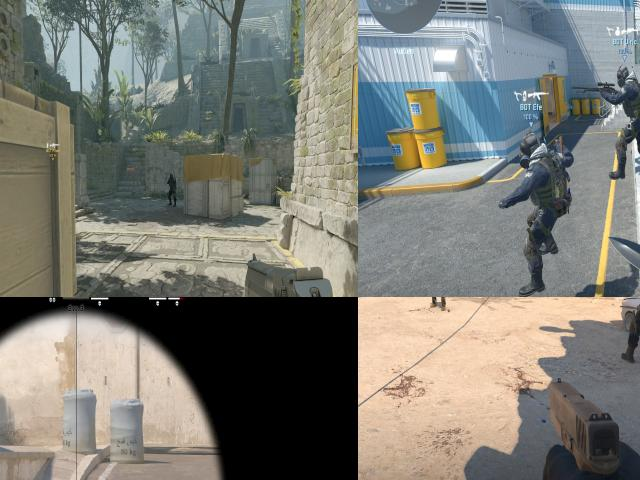CT: (524, 135, 569, 288), (617, 63, 640, 176), (166, 168, 178, 207)
CT-Head: (520, 134, 540, 163), (616, 66, 630, 86), (168, 171, 174, 179)
T: (431, 297, 447, 309)
